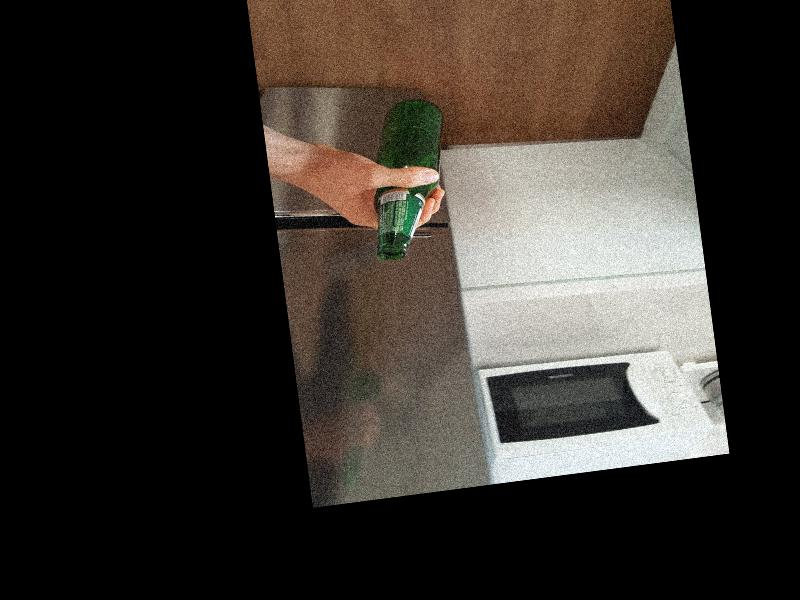Beer: (358, 95, 458, 261)
